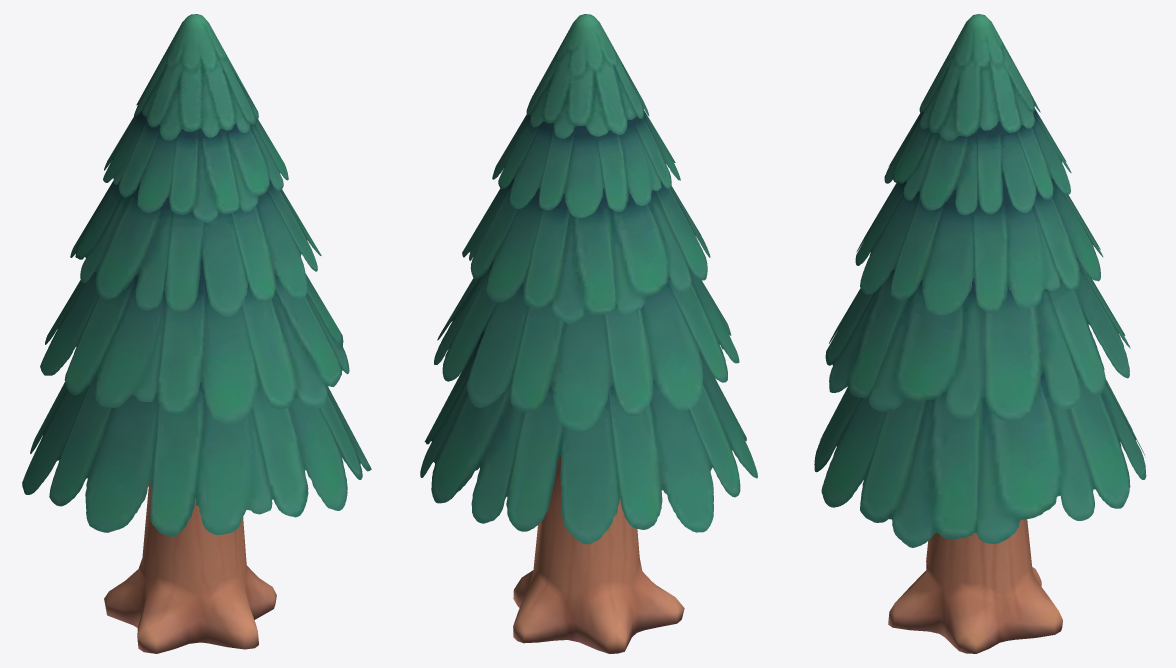
The model's file is pine.glb.
3 views of the same model, side by side, from view 1: azimuth 30°, elevation 25°; view 2: azimuth 150°, elevation 25°; view 3: azimuth 270°, elevation 25° (orthographic).
Parts seen in each view (by area): view 1: pine_leef_Baked, pine_Baked; view 2: pine_leef_Baked, pine_Baked; view 3: pine_leef_Baked, pine_Baked.
Boxes of the visible parts, bbox=[...] form: pine_leef_Baked: bbox=[22, 14, 371, 536]; pine_Baked: bbox=[104, 482, 276, 653]; pine_leef_Baked: bbox=[420, 14, 757, 544]; pine_Baked: bbox=[513, 455, 684, 653]; pine_leef_Baked: bbox=[814, 14, 1146, 547]; pine_Baked: bbox=[888, 519, 1062, 653].
Size of the model in its own units: 1.5 by 2.72 by 1.5.
2 materials, 2 textured.
